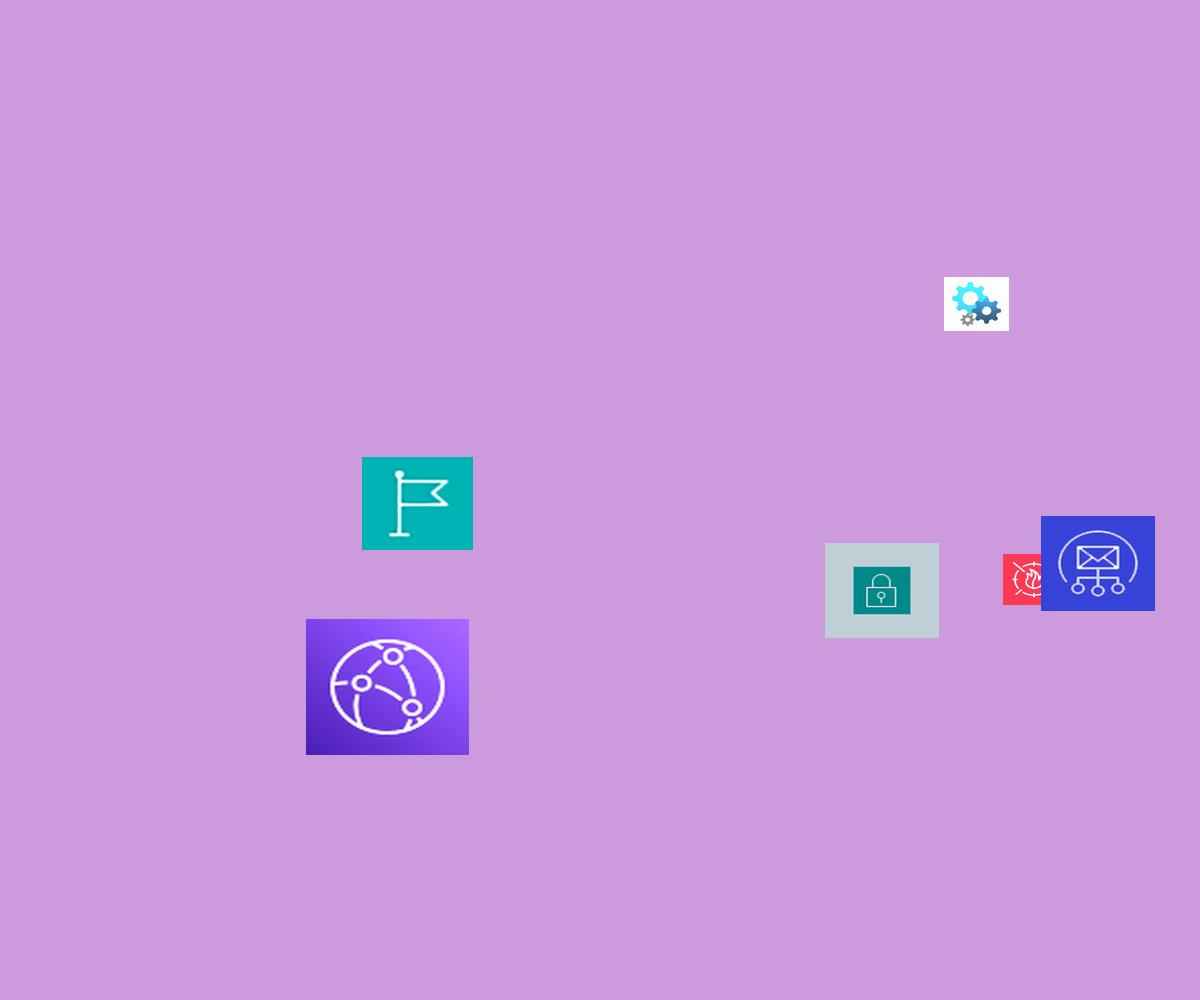AWS-CloudFront: (306, 619, 469, 755)
AWS-Private-subnet: (825, 543, 939, 638)
AWS-Region: (362, 457, 473, 550)
AWS-Simple-Email-Service: (1041, 516, 1155, 611)
AWS-WAF: (1003, 554, 1065, 605)
Azure_api: (944, 277, 1009, 331)
